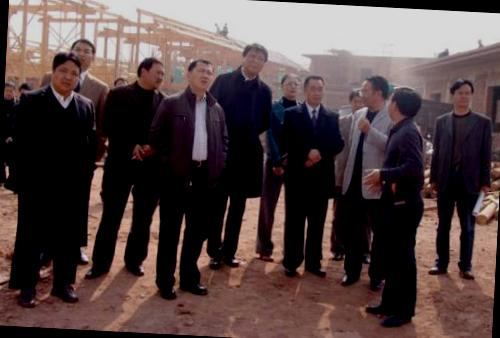no_helmet: (46, 48, 84, 96), (386, 85, 424, 128), (183, 53, 218, 98), (357, 74, 392, 114), (133, 54, 167, 92), (446, 76, 478, 116), (239, 38, 269, 78), (69, 34, 98, 72), (300, 71, 329, 109), (273, 72, 300, 104), (346, 86, 364, 117)
